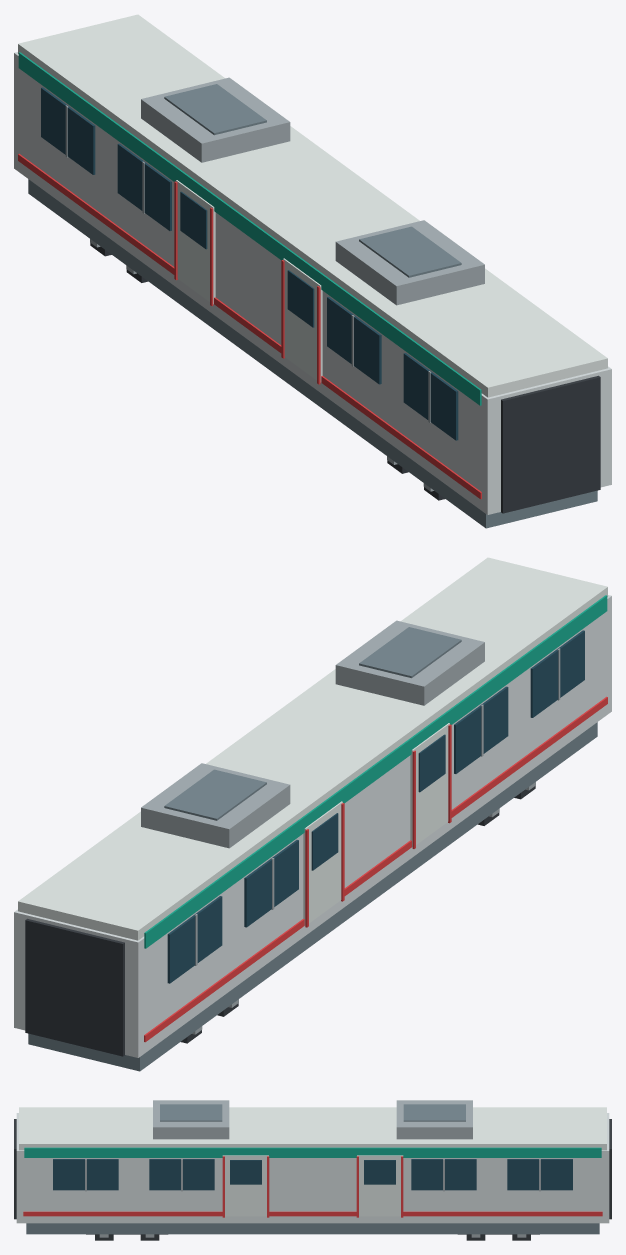
File: mrt6-middle.gltf
The picture shows the model from 3 angles, top to bottom: view 1: azimuth 30°, elevation 25°; view 2: azimuth 150°, elevation 25°; view 3: azimuth 270°, elevation 25°; orthographic projection. The views are drawn at different scales.
Visible parts, largest first — view 1: roof-steel, stainless-steel-main-body, car-to-car-rubber-coupler, lower-belly, upper-green-longitudinal-stripe-left, roof-air-conditioning-4, roof-air-conditioning--4, lower-red-line-left, roof-ac-grill-4, roof-ac-grill--4, tinted-window--1-7.45, tinted-window--1--7.45 (+6 smaller); view 2: roof-steel, stainless-steel-main-body, car-to-car-rubber-coupler, lower-belly, upper-green-longitudinal-stripe-left, roof-air-conditioning--4, roof-air-conditioning-4, lower-red-line-left, roof-ac-grill--4, roof-ac-grill-4, tinted-window--1--7.45, tinted-window--1-7.45 (+6 smaller); view 3: stainless-steel-main-body, roof-steel, lower-belly, upper-green-longitudinal-stripe-right, lower-red-line-right, roof-air-conditioning--4, roof-air-conditioning-4, tinted-window-1--7.45, tinted-window-1--4.3, tinted-window-1-4.3, tinted-window-1-7.45, recessed-sliding-door-1--2.2 (+6 smaller).
Part boxes in pixels (left/top/right/bottom): roof-steel: left=18, top=14, right=607, bottom=397; stainless-steel-main-body: left=14, top=52, right=611, bottom=514; car-to-car-rubber-coupler: left=501, top=375, right=600, bottom=513; lower-belly: left=28, top=179, right=597, bottom=528; upper-green-longitudinal-stripe-left: left=18, top=52, right=481, bottom=405; roof-air-conditioning-4: left=335, top=220, right=484, bottom=305; roof-air-conditioning--4: left=141, top=77, right=290, bottom=162; lower-red-line-left: left=18, top=153, right=481, bottom=499; roof-ac-grill-4: left=359, top=226, right=461, bottom=277; roof-ac-grill--4: left=164, top=84, right=266, bottom=135; tinted-window--1-7.45: left=403, top=353, right=458, bottom=440; tinted-window--1--7.45: left=41, top=87, right=95, bottom=174; roof-steel: left=18, top=557, right=607, bottom=940; stainless-steel-main-body: left=14, top=595, right=611, bottom=1057; car-to-car-rubber-coupler: left=25, top=918, right=124, bottom=1056; lower-belly: left=28, top=722, right=597, bottom=1071; upper-green-longitudinal-stripe-left: left=144, top=595, right=607, bottom=948; roof-air-conditioning--4: left=141, top=763, right=290, bottom=848; roof-air-conditioning-4: left=335, top=620, right=484, bottom=705; lower-red-line-left: left=144, top=696, right=607, bottom=1042; roof-ac-grill--4: left=164, top=769, right=266, bottom=820; roof-ac-grill-4: left=359, top=627, right=461, bottom=678; tinted-window--1--7.45: left=167, top=896, right=222, bottom=983; tinted-window--1-7.45: left=530, top=630, right=584, bottom=717; stainless-steel-main-body: left=16, top=1113, right=609, bottom=1223; roof-steel: left=19, top=1107, right=606, bottom=1150; lower-belly: left=26, top=1223, right=599, bottom=1234; upper-green-longitudinal-stripe-right: left=24, top=1147, right=601, bottom=1157; lower-red-line-right: left=23, top=1211, right=602, bottom=1216; roof-air-conditioning--4: left=396, top=1100, right=472, bottom=1139; roof-air-conditioning-4: left=153, top=1100, right=229, bottom=1139; tinted-window-1--7.45: left=507, top=1159, right=572, bottom=1190; tinted-window-1--4.3: left=411, top=1159, right=476, bottom=1190; tinted-window-1-4.3: left=149, top=1159, right=214, bottom=1190; tinted-window-1-7.45: left=53, top=1159, right=118, bottom=1190; recessed-sliding-door-1--2.2: left=357, top=1155, right=403, bottom=1216.
Bounding box in the file's own units: 3.15 × 4.11 × 19.62.
